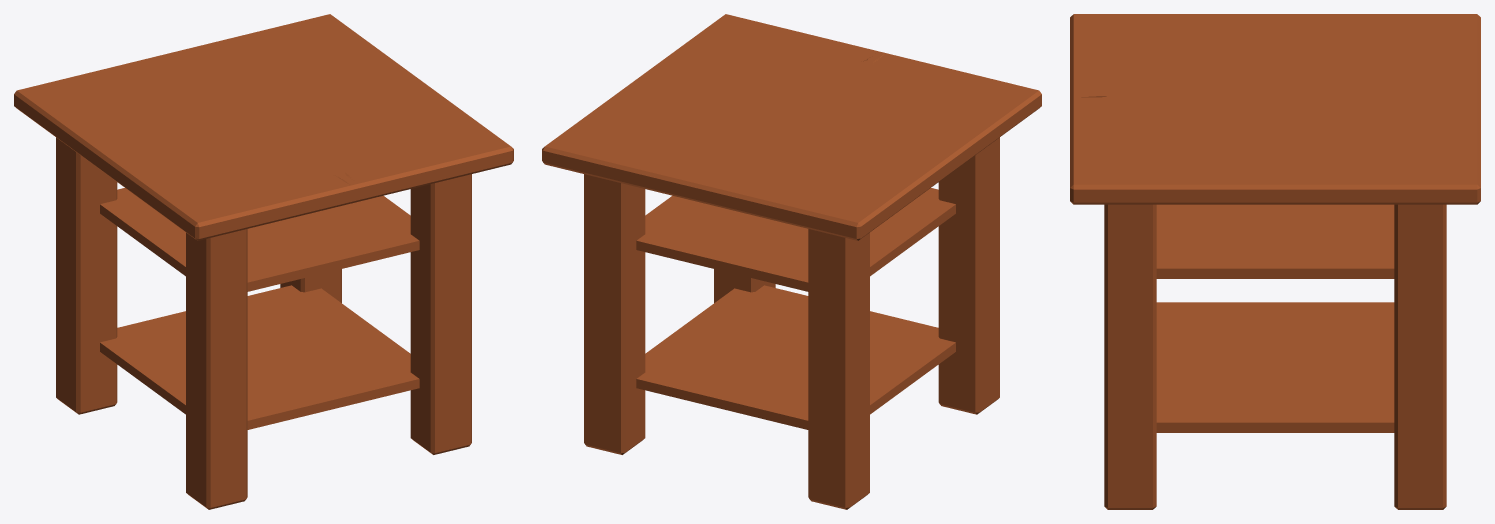
Rendered from LampTable.fbx.
The picture shows the model from 3 angles, left to right: view 1: azimuth 30°, elevation 25°; view 2: azimuth 150°, elevation 25°; view 3: azimuth 270°, elevation 25°; orthographic projection. The views are drawn at different scales.
Parts seen in each view (by area): view 1: Lamp_table; view 2: Lamp_table; view 3: Lamp_table.
Boxes of the visible parts, x1,y1,x2,y2 form: Lamp_table: (14, 14, 513, 509); Lamp_table: (542, 14, 1041, 509); Lamp_table: (1070, 14, 1480, 509).
Size of the model in its own units: 144 by 131 by 144.
